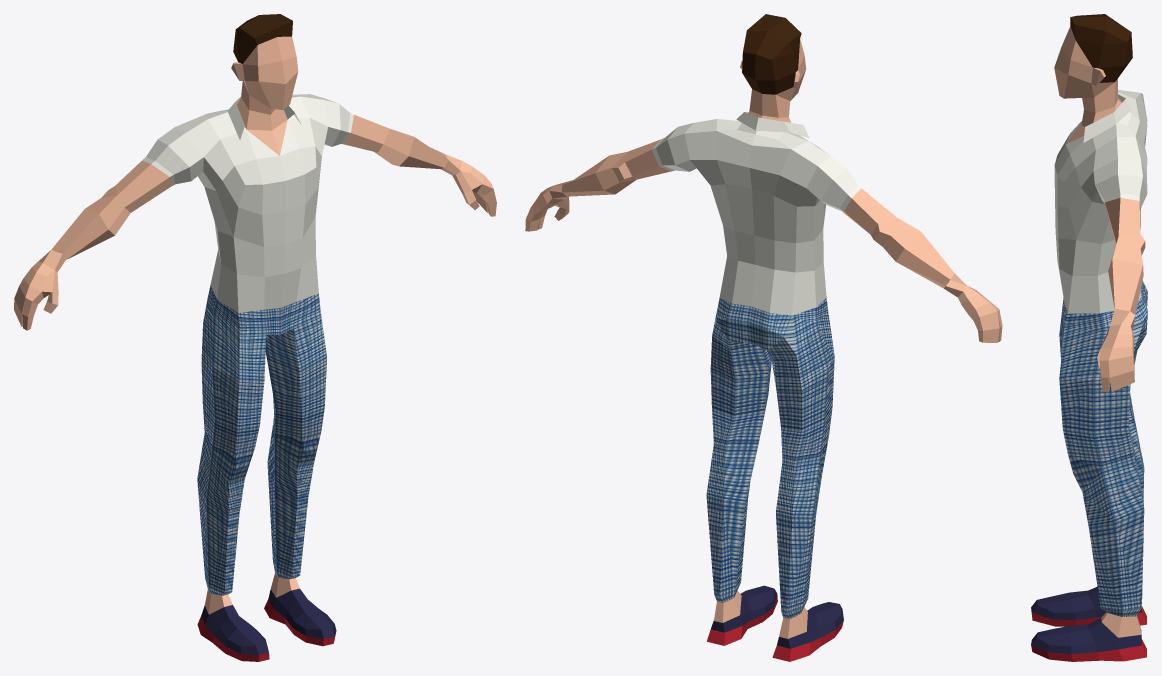
File: Spring Man B.fbx
3 renders of one model, left to right at view 1: azimuth 30°, elevation 25°; view 2: azimuth 150°, elevation 25°; view 3: azimuth 270°, elevation 25°, orthographic. The views are drawn at different scales.
Visible parts, largest first — view 1: Spring Man B; view 2: Spring Man B; view 3: Spring Man B.
Part boxes in pixels (x1,y1,x2,y2): Spring Man B: (14, 14, 496, 661); Spring Man B: (525, 14, 1002, 661); Spring Man B: (1031, 14, 1147, 661).
Bounding box in the file's own units: 149 × 185 × 31.56.
Materials: 1 (1 with a texture image).
